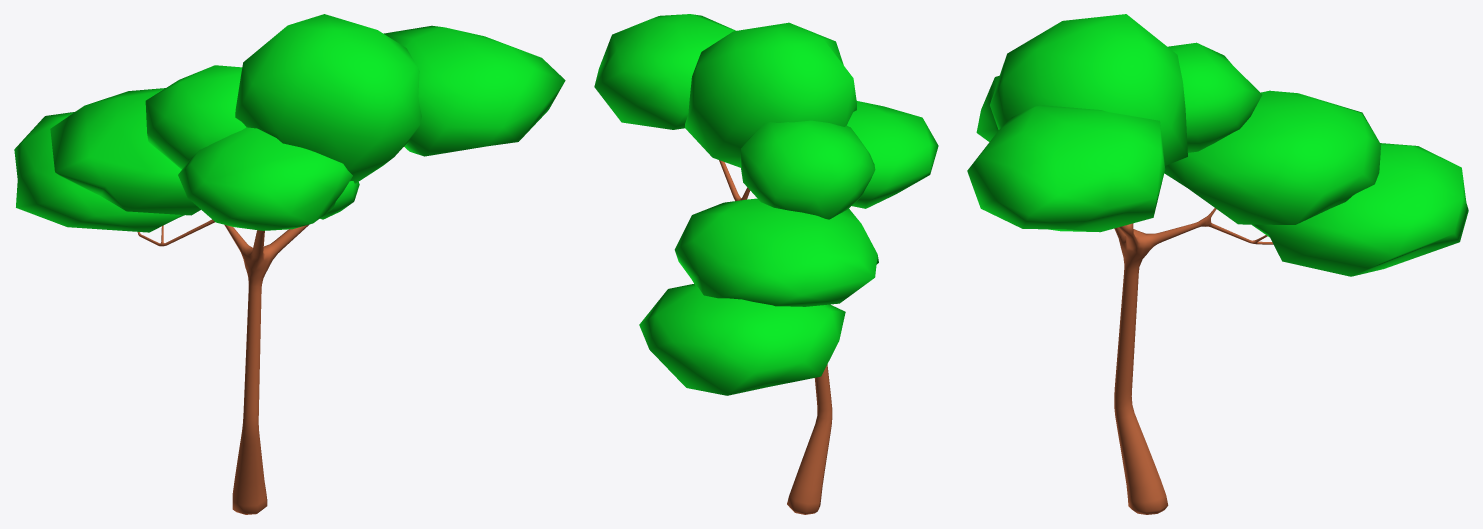
Rendered from TreeMedium.fbx.
3 views of the same model, side by side, from view 1: azimuth 30°, elevation 25°; view 2: azimuth 150°, elevation 25°; view 3: azimuth 270°, elevation 25° (orthographic). The views are drawn at different scales.
Parts seen in each view (by area): view 1: Tree2; view 2: Tree2; view 3: Tree2.
Part boxes in pixels (x1,y1,x2,y2): Tree2: (14,14,565,514); Tree2: (594,14,938,514); Tree2: (967,14,1468,514).
Size of the model in its own units: 80.43 by 94.51 by 83.77.
